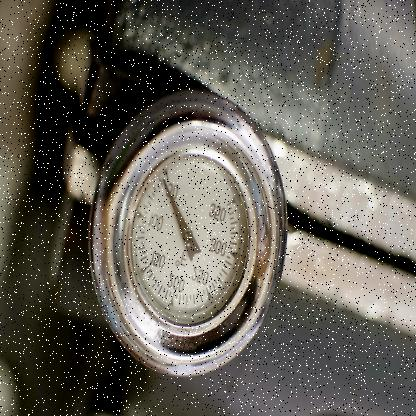needle: (163, 178, 189, 235)
